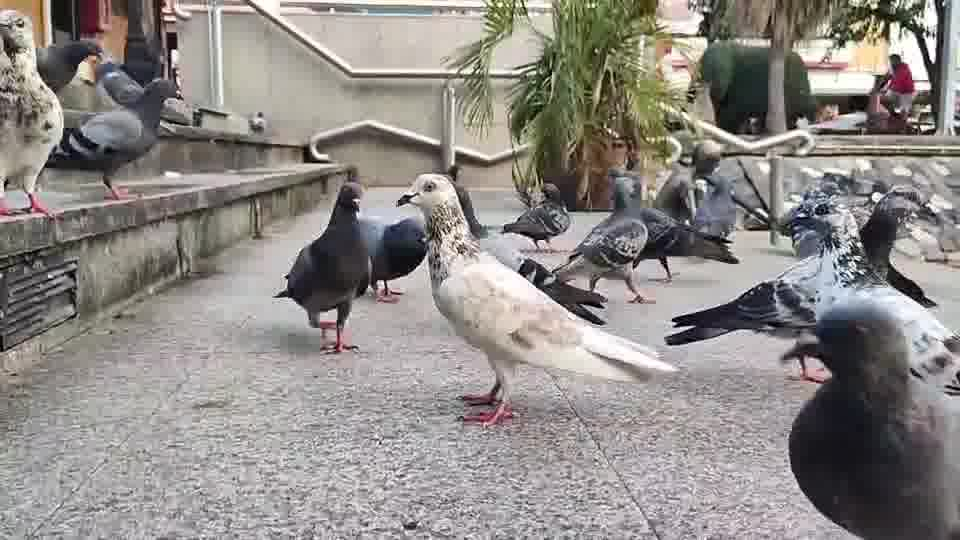Pigeon: (393, 172, 680, 428), (663, 189, 938, 384), (785, 290, 959, 538), (552, 171, 738, 304), (271, 180, 370, 354), (46, 73, 178, 201), (0, 8, 65, 220), (515, 255, 608, 326), (357, 212, 428, 303), (499, 181, 571, 252)
